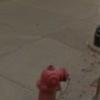a fire hydrant: (38, 66, 69, 100)
